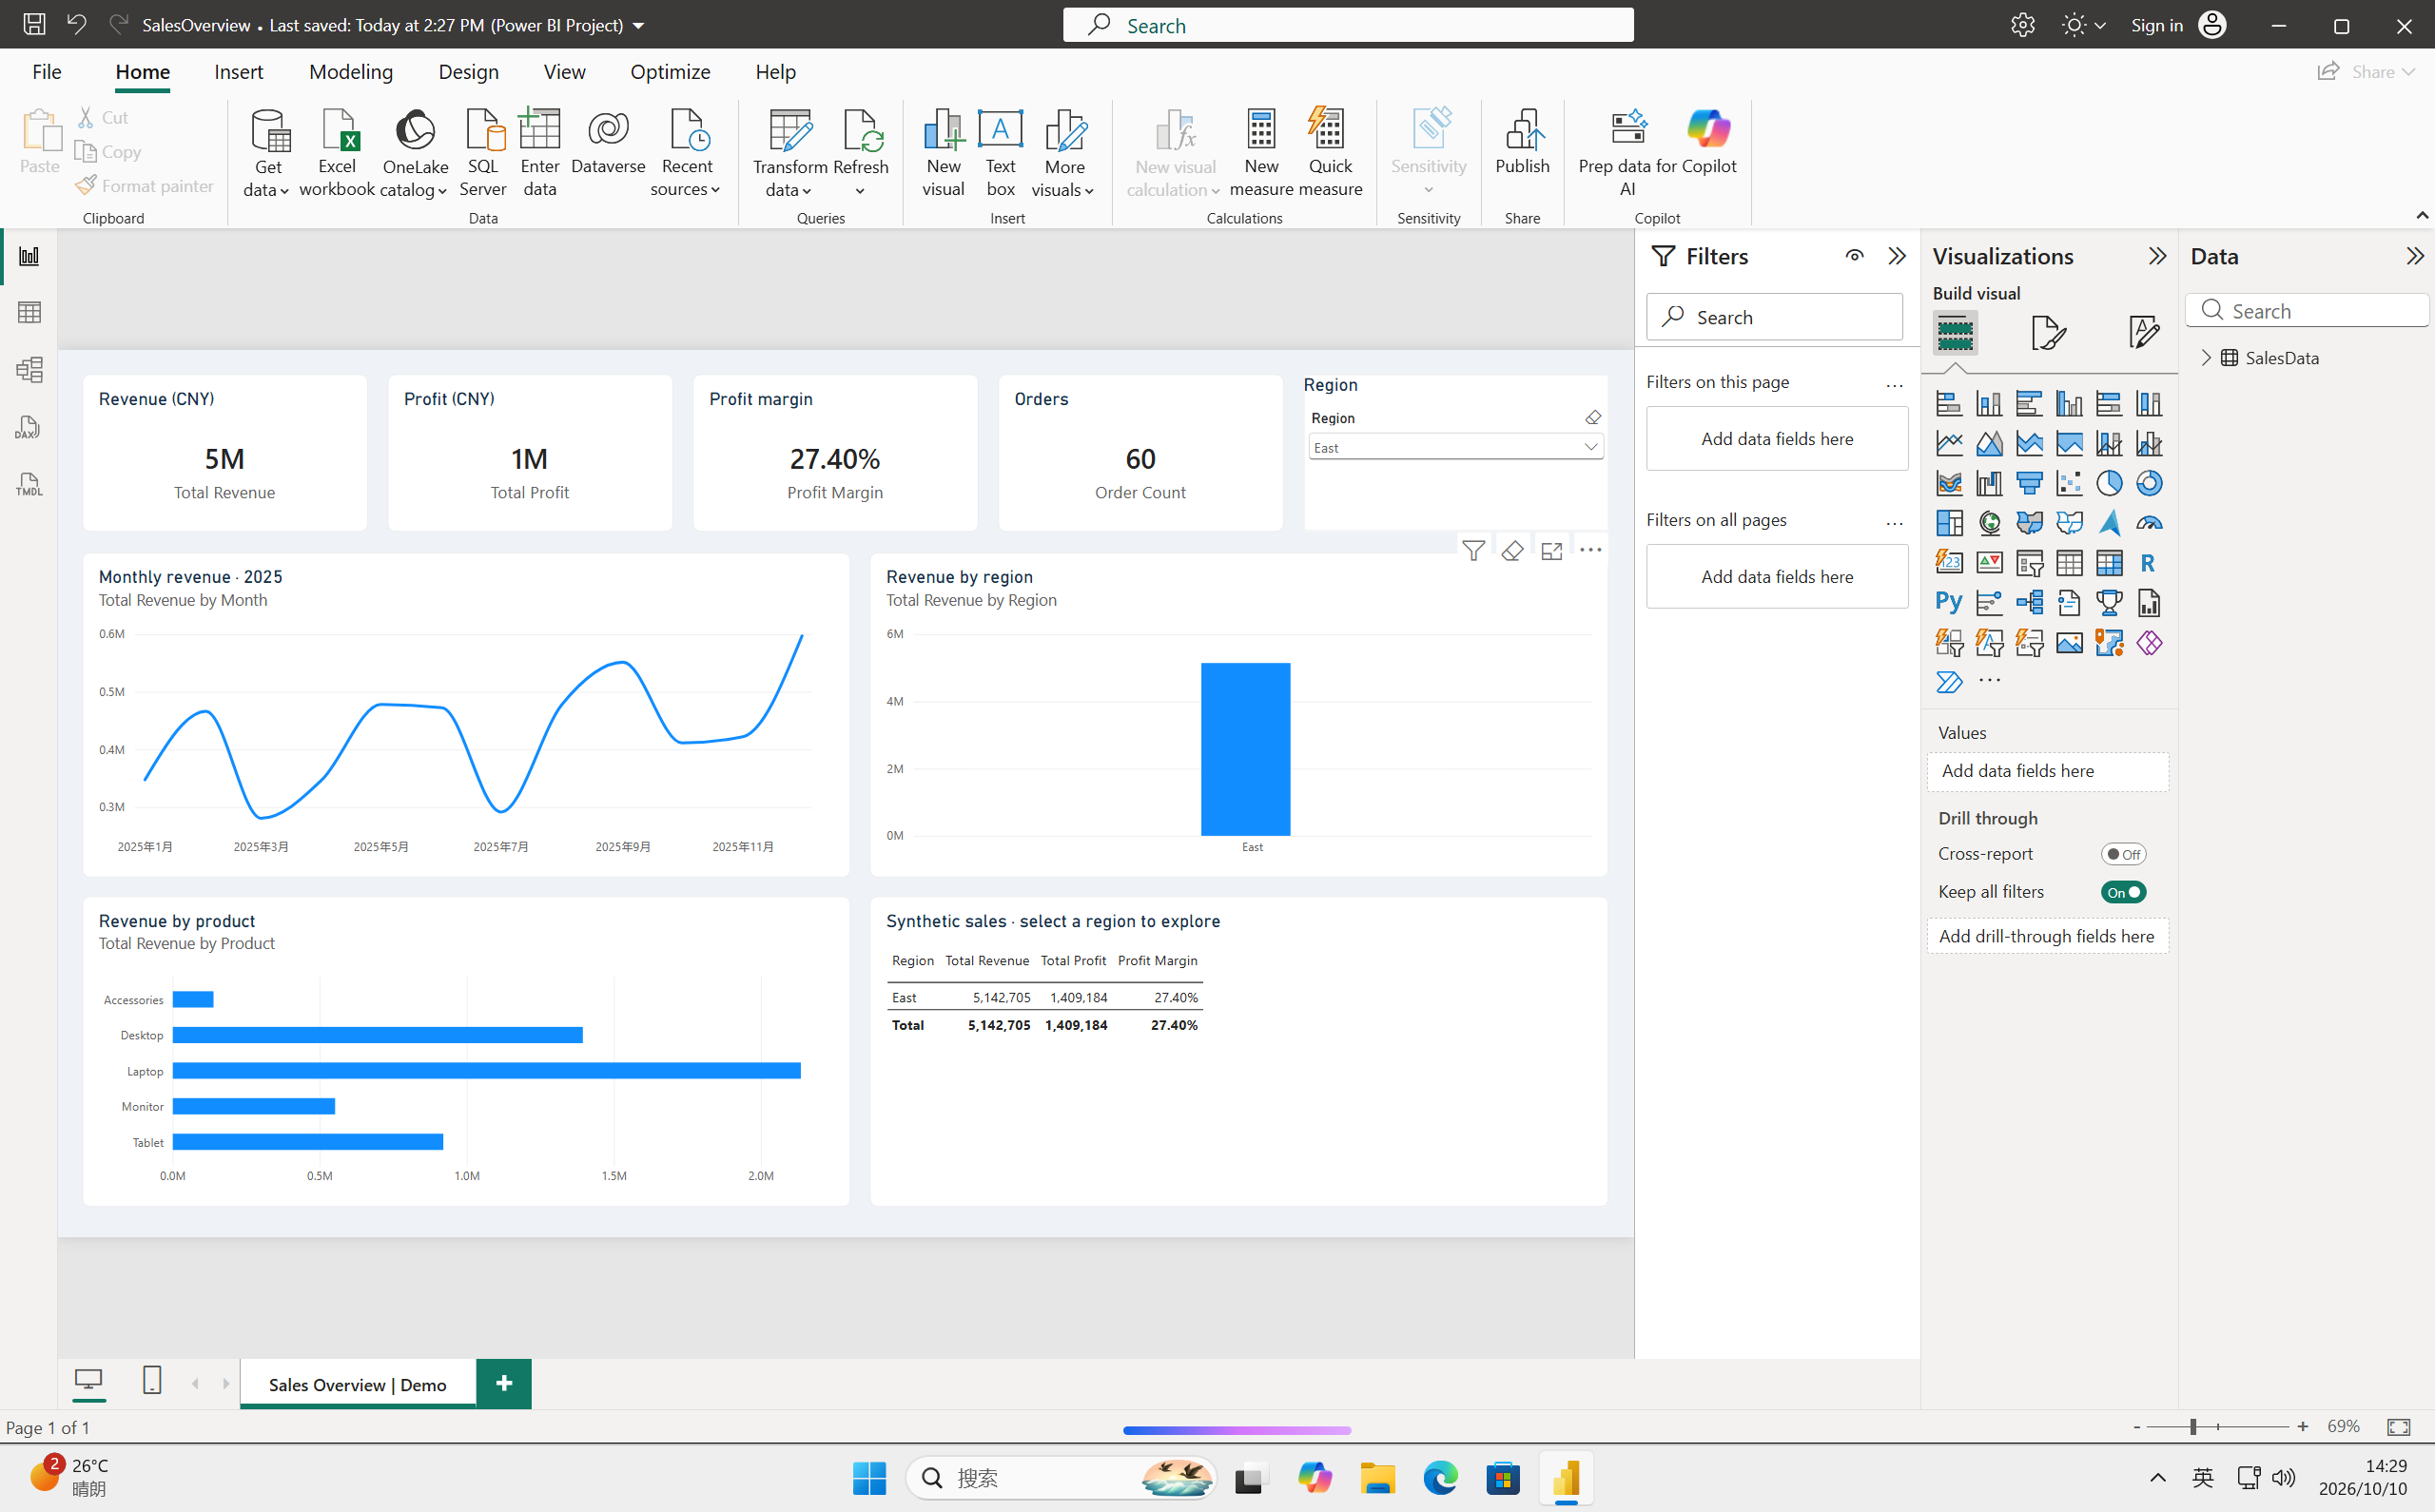

Layout of this report page (visuals, bound fields, positions):
{"tool":"powerbi","page":{"name":"Sales Overview | Demo","canvas":[1600,900],"ordinal":0},"visuals":[{"type":"card","title":"Revenue (CNY)","fields":{"Values":["SalesData.Total Revenue"]},"box":[24,24,290,160],"z":0},{"type":"card","title":"Profit (CNY)","fields":{"Values":["SalesData.Total Profit"]},"box":[334,24,290,160],"z":1},{"type":"card","title":"Profit margin","fields":{"Values":["SalesData.Profit Margin"]},"box":[644,24,290,160],"z":2},{"type":"card","title":"Orders","fields":{"Values":["SalesData.Order Count"]},"box":[954,24,290,160],"z":3},{"type":"lineChart","title":"Monthly revenue · 2025","fields":{"Category":["SalesData.Month"],"Y":["SalesData.Total Revenue"]},"box":[24,205,780,330],"z":4},{"type":"clusteredColumnChart","title":"Revenue by region","fields":{"Category":["SalesData.Region"],"Y":["SalesData.Total Revenue"]},"box":[824,205,750,330],"z":5},{"type":"clusteredBarChart","title":"Revenue by product","fields":{"Category":["SalesData.Product"],"Y":["SalesData.Total Revenue"]},"box":[24,555,780,315],"z":6},{"type":"tableEx","title":"Synthetic sales · select a region to explore","fields":{"Values":["SalesData.Region","SalesData.Total Revenue","SalesData.Total Profit","SalesData.Profit Margin"]},"box":[824,555,750,315],"z":7},{"type":"slicer","title":"Region","fields":{"Values":["SalesData.Region"]},"box":[1264,24,310,160],"z":8}]}

Visuals, with their boxes on the page's 1600x900 design canvas (x1, y1, x2, y2). These are canvas units, not pixel positions in the 2435x1512 screenshot, which may show the page scaled, cropped or inside an application window:
"Revenue (CNY)" card: [24, 24, 314, 184]
"Profit (CNY)" card: [334, 24, 624, 184]
"Profit margin" card: [644, 24, 934, 184]
"Orders" card: [954, 24, 1244, 184]
"Monthly revenue · 2025" lineChart: [24, 205, 804, 535]
"Revenue by region" clusteredColumnChart: [824, 205, 1574, 535]
"Revenue by product" clusteredBarChart: [24, 555, 804, 870]
"Synthetic sales · select a region to explore" tableEx: [824, 555, 1574, 870]
"Region" slicer: [1264, 24, 1574, 184]
